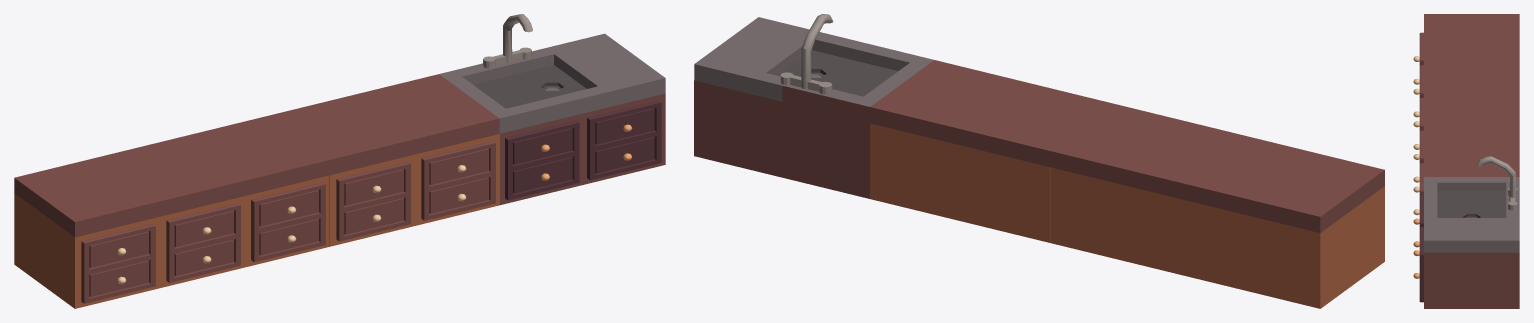
File: bancadas.fbx
3 views of the same model, side by side, from view 1: azimuth 30°, elevation 25°; view 2: azimuth 150°, elevation 25°; view 3: azimuth 270°, elevation 25° (orthographic). The views are drawn at different scales.
Visible parts, largest first — view 1: Plane.105; view 2: Plane.105; view 3: Plane.105.
Part boxes in pixels (left/top/right/bottom): Plane.105: left=14, top=14, right=665, bottom=308; Plane.105: left=694, top=14, right=1384, bottom=308; Plane.105: left=1413, top=14, right=1519, bottom=308.
Size of the model in its own units: 8.95 by 2.09 by 1.77.
